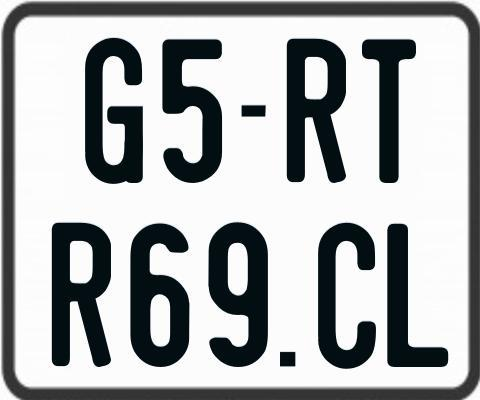5: (159, 38, 222, 183)
6: (129, 223, 189, 368)
9: (206, 219, 268, 369)
C: (315, 222, 375, 370)
G: (82, 35, 143, 186)
L: (386, 224, 450, 373)
R: (285, 38, 348, 188), (50, 222, 112, 369)
T: (362, 38, 420, 183)
